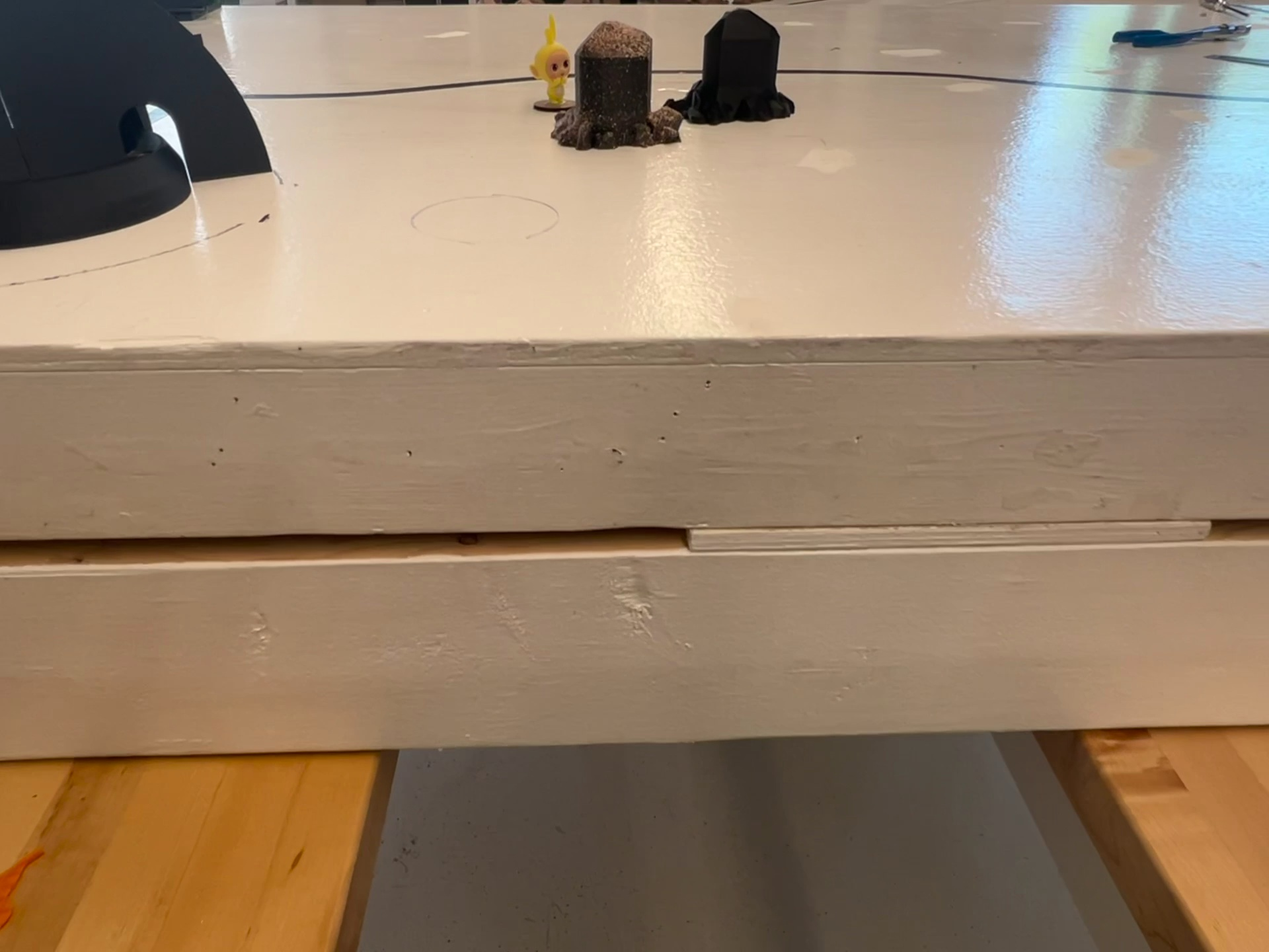teletubby: (530, 15, 572, 105)
